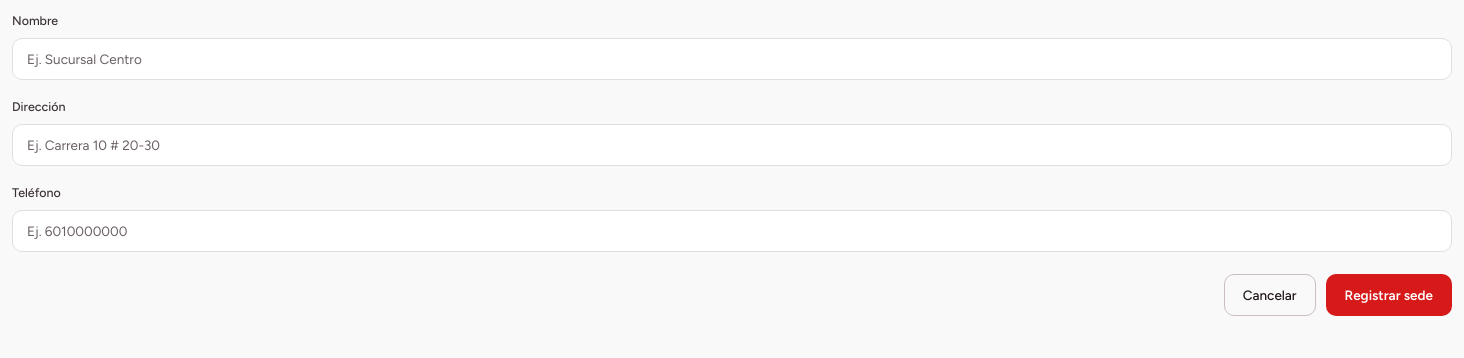
Test: CreateBranchForm › validates only the missing field when the rest are filled
This screenshot has width=1464, height=358.
Type "Sede Centro" into the field labelled "Nombre" at (732, 59), box [12,38,1452,80]
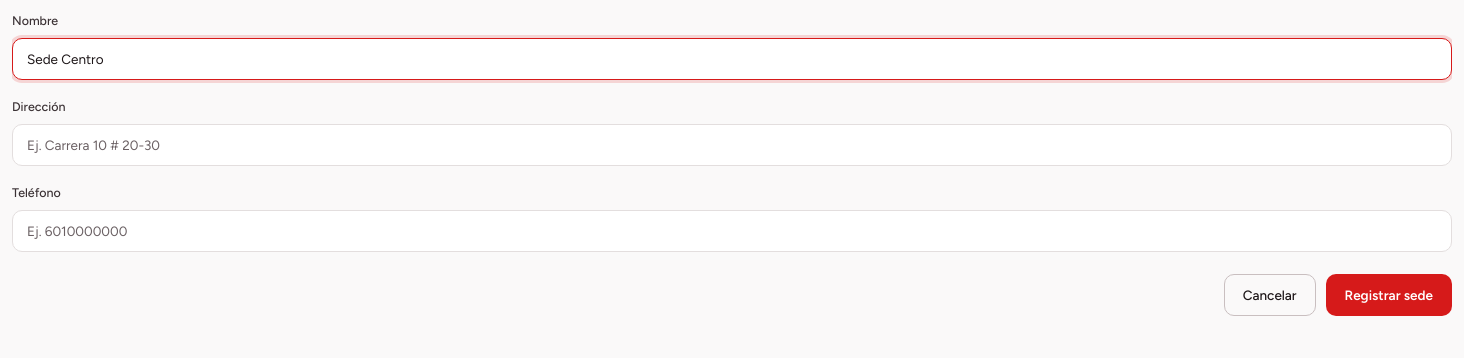
Type "Carrera 10 # 20-30" into the field labelled "Dirección" at (732, 145), box [12,124,1452,166]
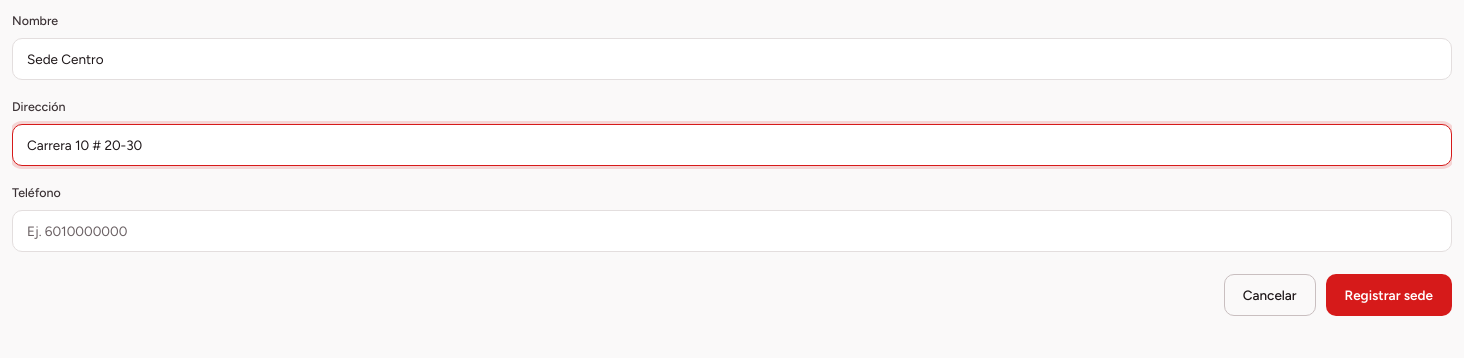
Click the button "Registrar sede" at (1389, 295), box [1326,274,1452,316]
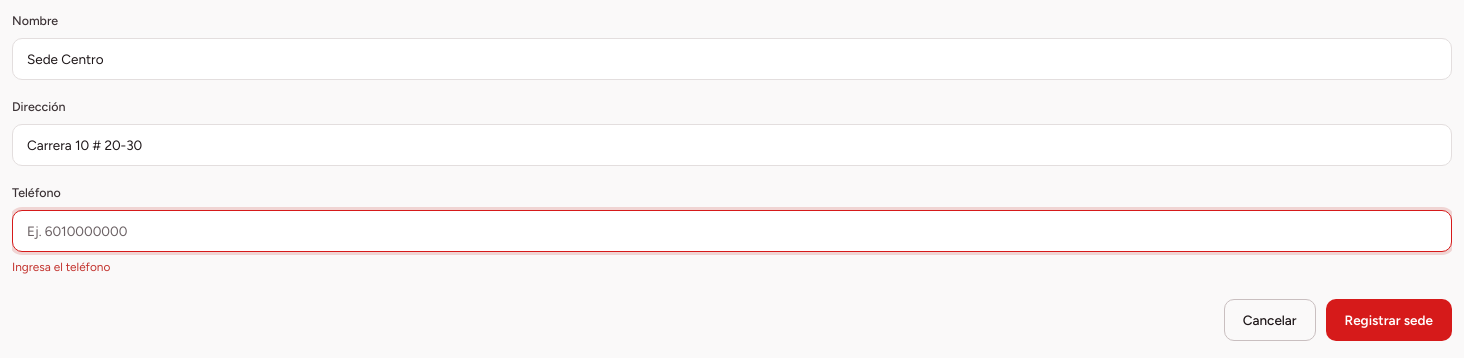
Now the text "Ingresa el teléfono" is shown, box [12,260,110,274]
